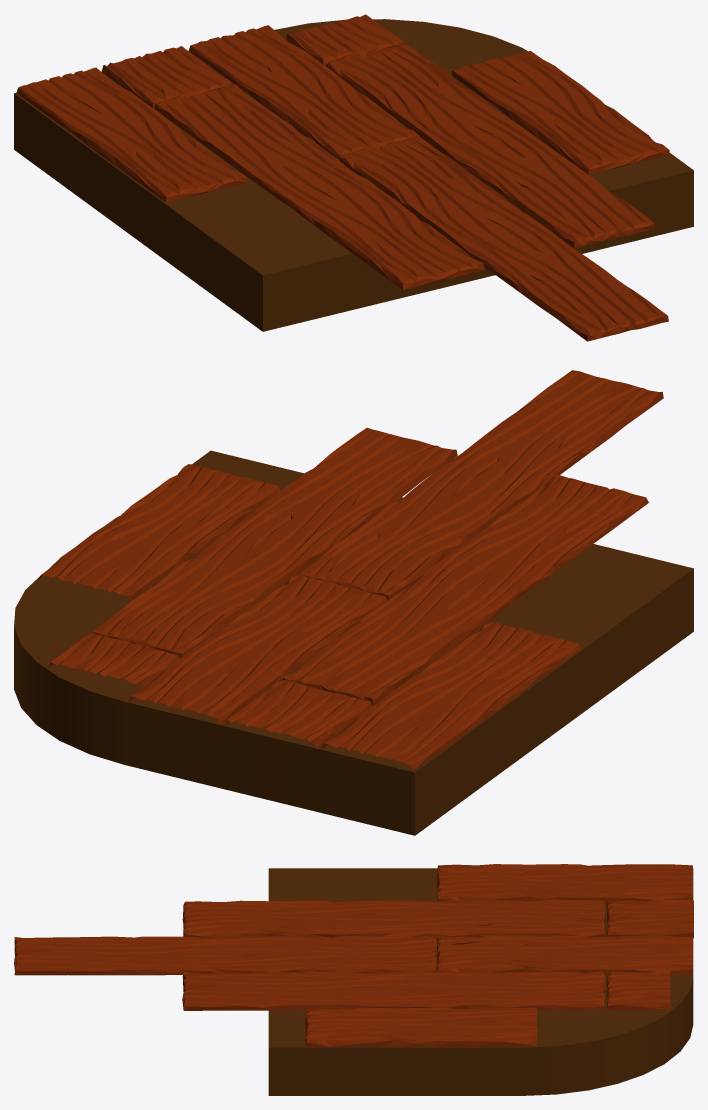
File: FloorCornerR.glb
3 renders of one model, top to bottom at view 1: azimuth 30°, elevation 25°; view 2: azimuth 150°, elevation 25°; view 3: azimuth 270°, elevation 25°, orthographic. The views are drawn at different scales.
Parts seen in each view (by area): view 1: Cube.002, Plane.004, Plane.003, Plane.009, Plane.001, Plane.005, Plane.002, Plane.007, Plane.006; view 2: Cube.002, Plane.004, Plane.003, Plane.009, Plane.001, Plane.005, Plane.002, Plane.007, Plane.006; view 3: Cube.002, Plane.009, Plane.003, Plane.004, Plane.001, Plane.005, Plane.002, Plane.007, Plane.006.
Boxes of the visible parts, box(x1,y1,x2,y2) form: Cube.002: box(14, 19, 693, 331); Plane.004: box(154, 84, 484, 289); Plane.003: box(325, 44, 654, 248); Plane.009: box(339, 137, 668, 341); Plane.001: box(16, 67, 247, 202); Plane.005: box(188, 25, 419, 159); Plane.002: box(452, 51, 669, 174); Plane.007: box(101, 46, 233, 108); Plane.006: box(286, 14, 404, 65); Cube.002: box(14, 450, 693, 835); Plane.004: box(282, 474, 648, 705); Plane.003: box(92, 427, 457, 658); Plane.009: box(298, 370, 663, 600); Plane.001: box(322, 621, 580, 771); Plane.005: box(128, 574, 387, 724); Plane.002: box(38, 464, 280, 601); Plane.007: box(226, 680, 372, 748); Plane.006: box(49, 633, 179, 689); Cube.002: box(268, 868, 693, 1095); Plane.009: box(14, 935, 436, 975); Plane.003: box(182, 971, 605, 1010); Plane.004: box(182, 900, 605, 939); Plane.001: box(437, 864, 692, 902); Plane.005: box(437, 936, 693, 974); Plane.002: box(305, 1007, 537, 1046); Plane.007: box(606, 900, 693, 938); Plane.006: box(606, 971, 670, 1009).
Size of the model in its own units: 2 by 0.2822 by 3.2.
